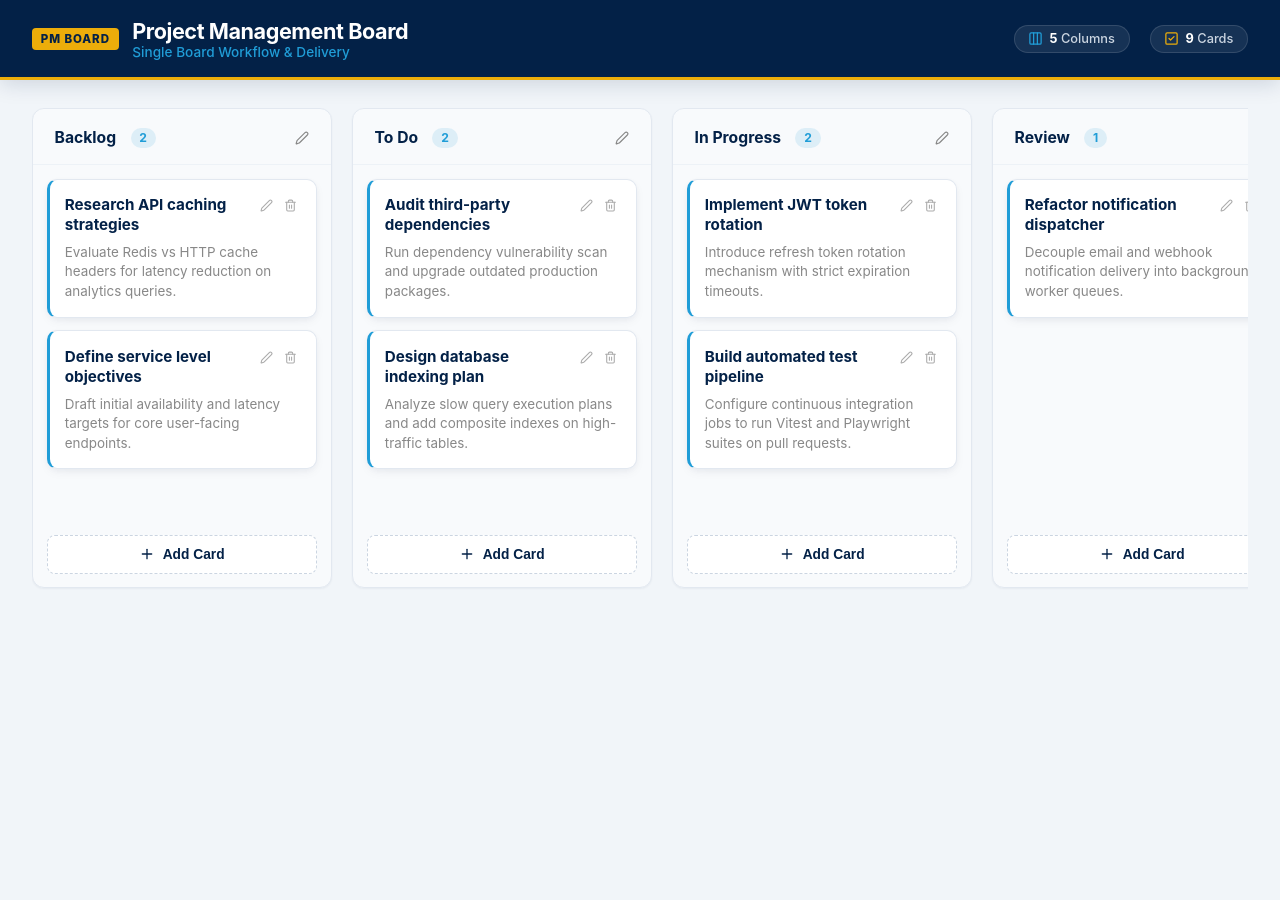
Test case: KanbanBoard UI Component › allows editing an existing card
Click the button with test id "edit-card-card-1". click: click(266, 205)
box: [256,195,277,216]
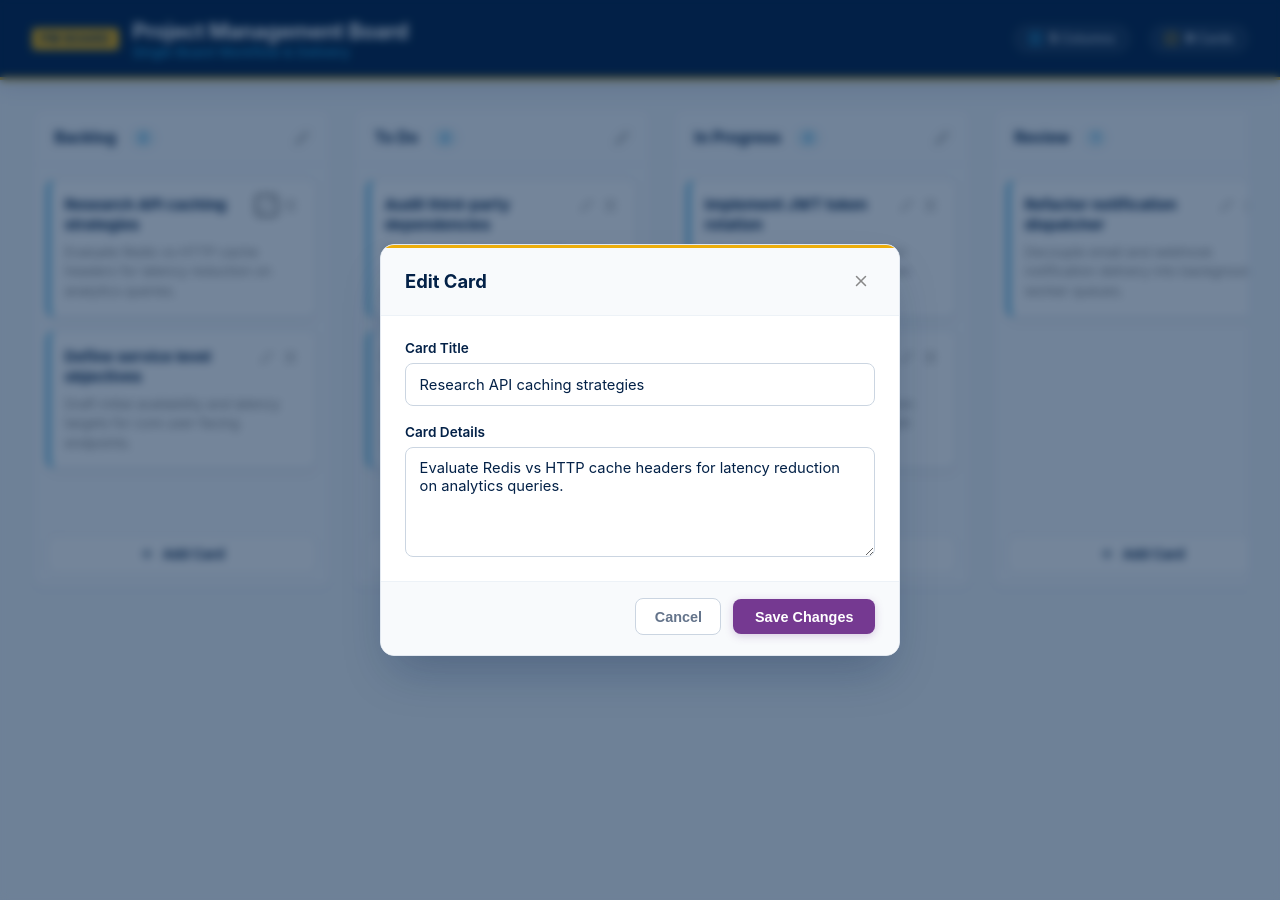
Result: the element with test id "card-modal" is shown
Result: the heading with test id "modal-title" reads "Edit Card" at [405,270,487,292]
Result: the field with test id "modal-title-input" holds "Research API caching strategies"
Replace the text in the field with test id "modal-title-input" with "Refined API Caching Plan". click: (640, 384)
box: [405,363,875,406]
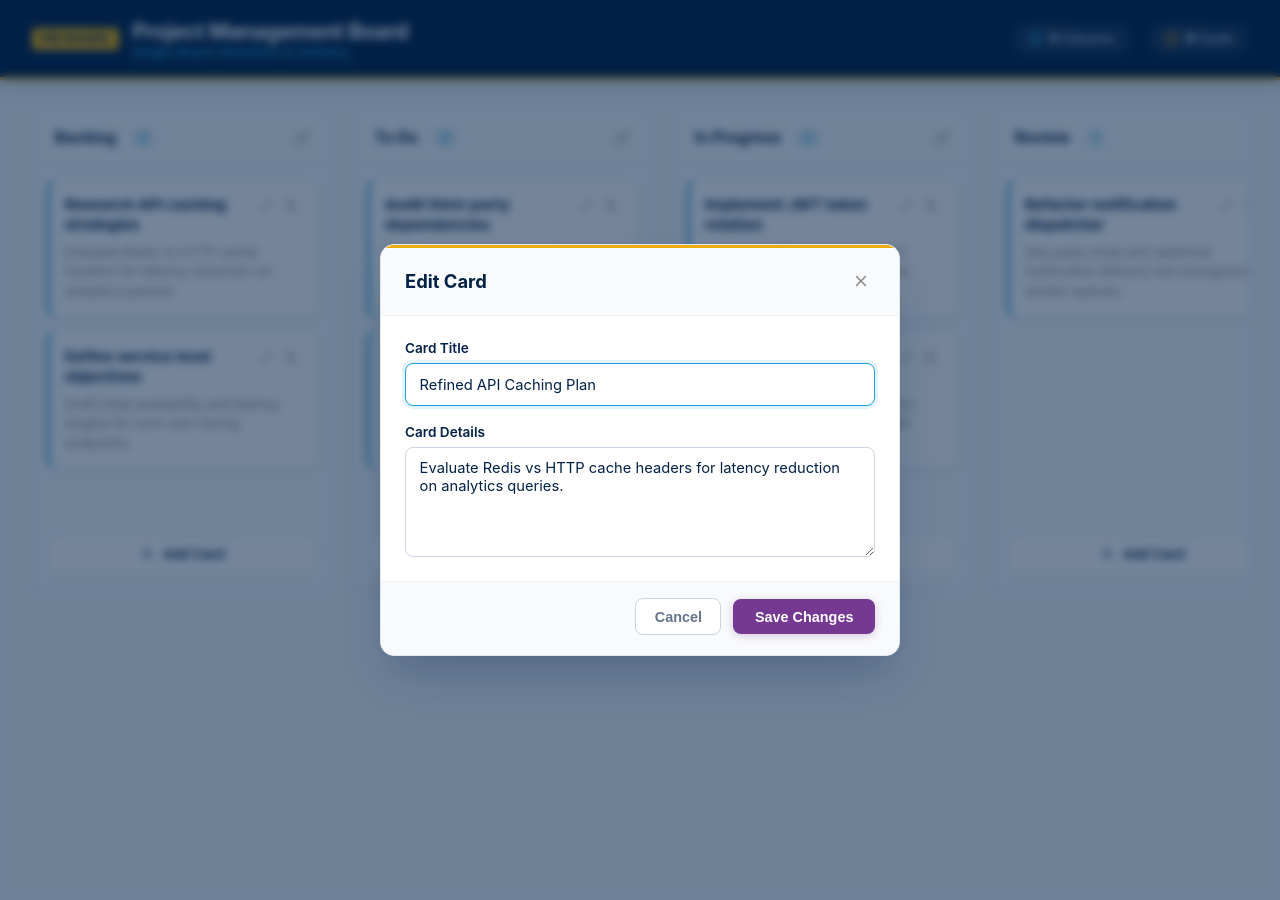
Click the button with test id "modal-submit-button". click: click(804, 617)
box: [733,599,875,634]
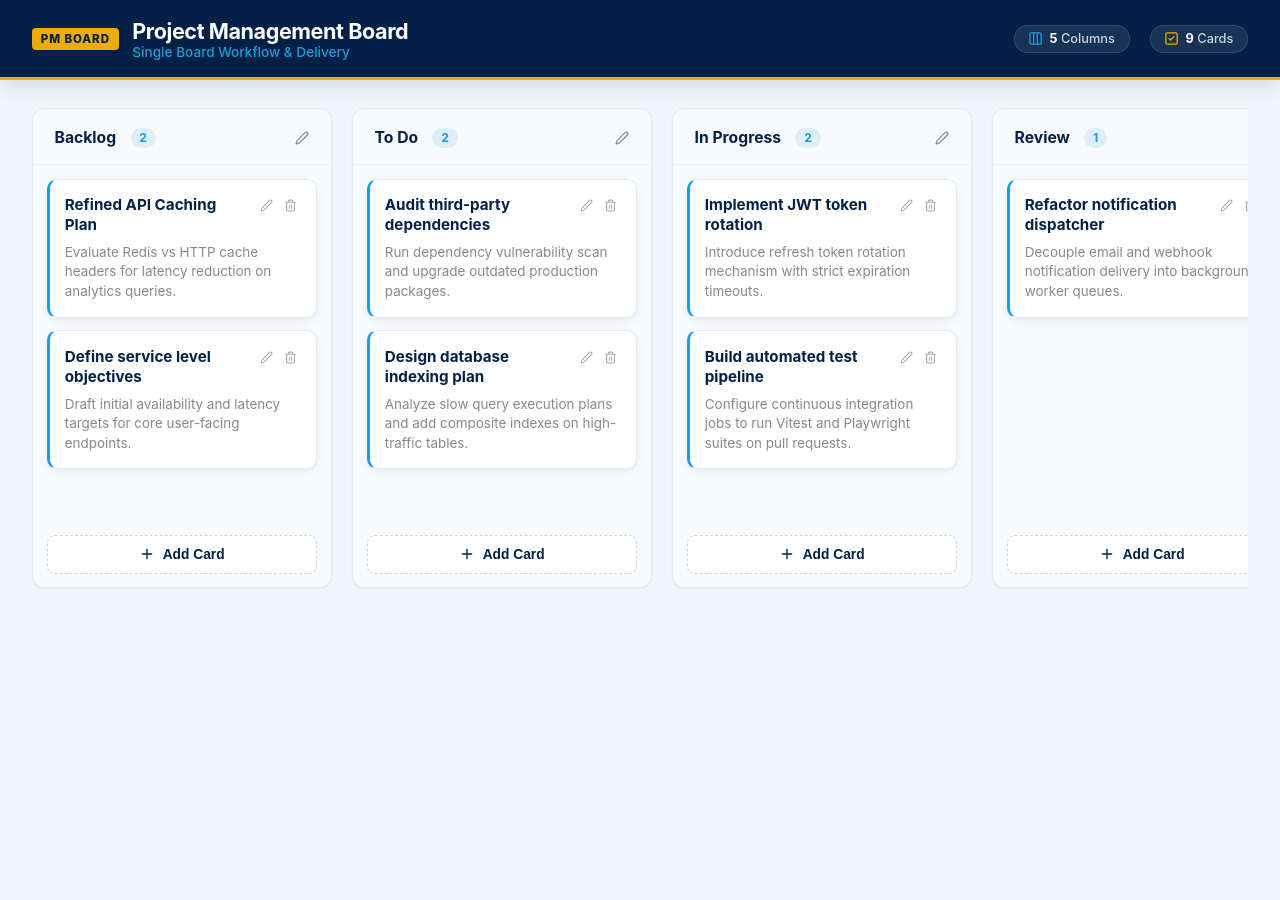
Result: the element with test id "card-modal" is gone
Result: the heading "Refined API Caching Plan" is shown at [65,195,216,234]
